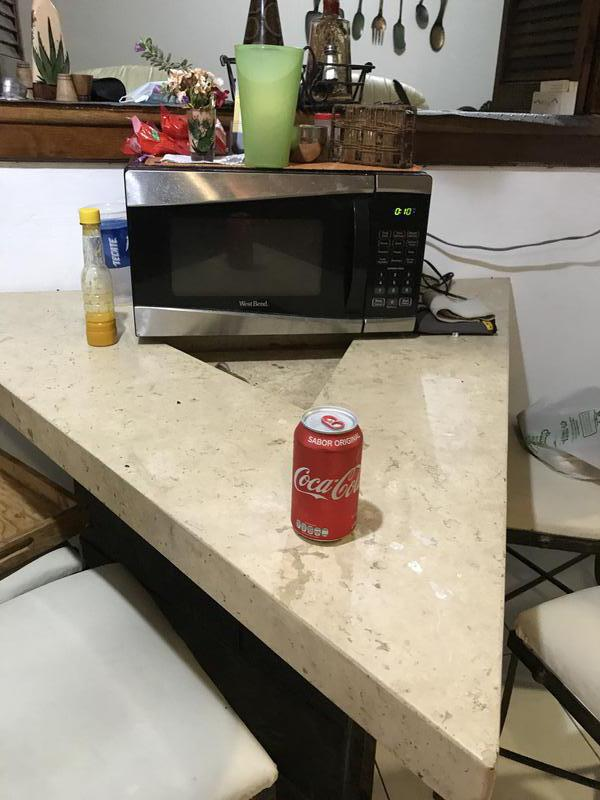coca_cola: (291, 408, 361, 545)
